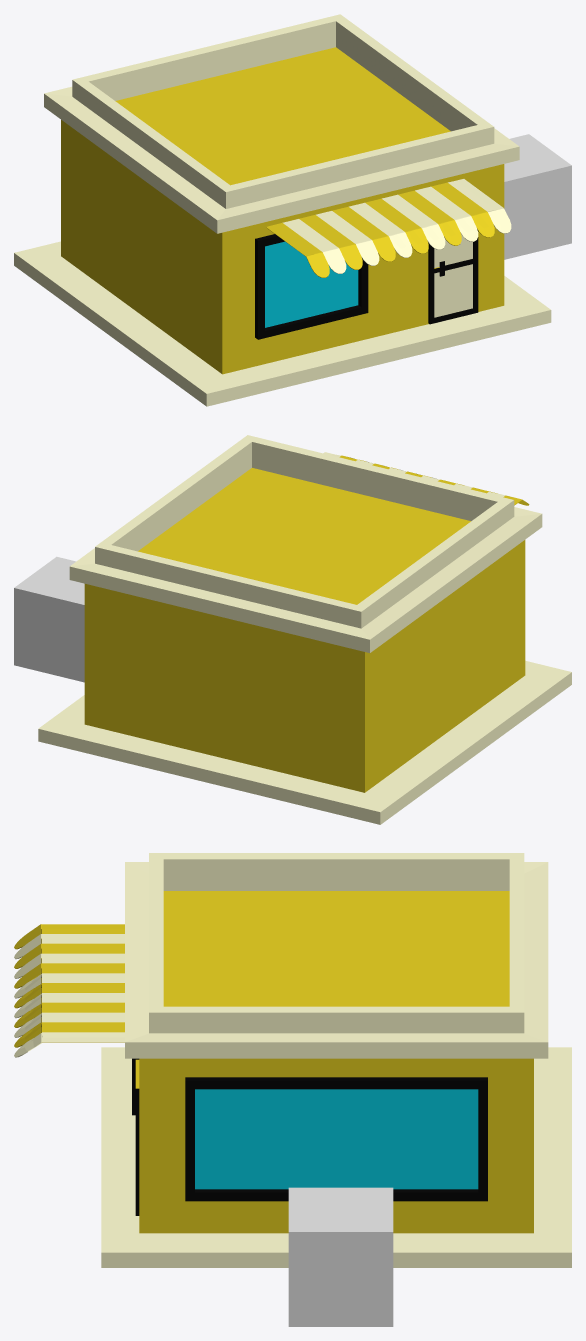
File: Store.fbx
3 renders of one model, top to bottom at view 1: azimuth 30°, elevation 25°; view 2: azimuth 150°, elevation 25°; view 3: azimuth 270°, elevation 25°, orthographic. The views are drawn at different scales.
Visible parts, largest first — view 1: Cube, Cube.001; view 2: Cube, Cube.001; view 3: Cube, Cube.001.
Part boxes in pixels (x1,y1,x2,y2): Cube: [14, 14, 551, 406]; Cube.001: [504, 134, 571, 259]; Cube: [38, 435, 571, 824]; Cube.001: [14, 556, 84, 682]; Cube: [14, 853, 571, 1267]; Cube.001: [288, 1187, 393, 1326].
Bounding box in the file's own units: 1188 × 491 × 1064.
